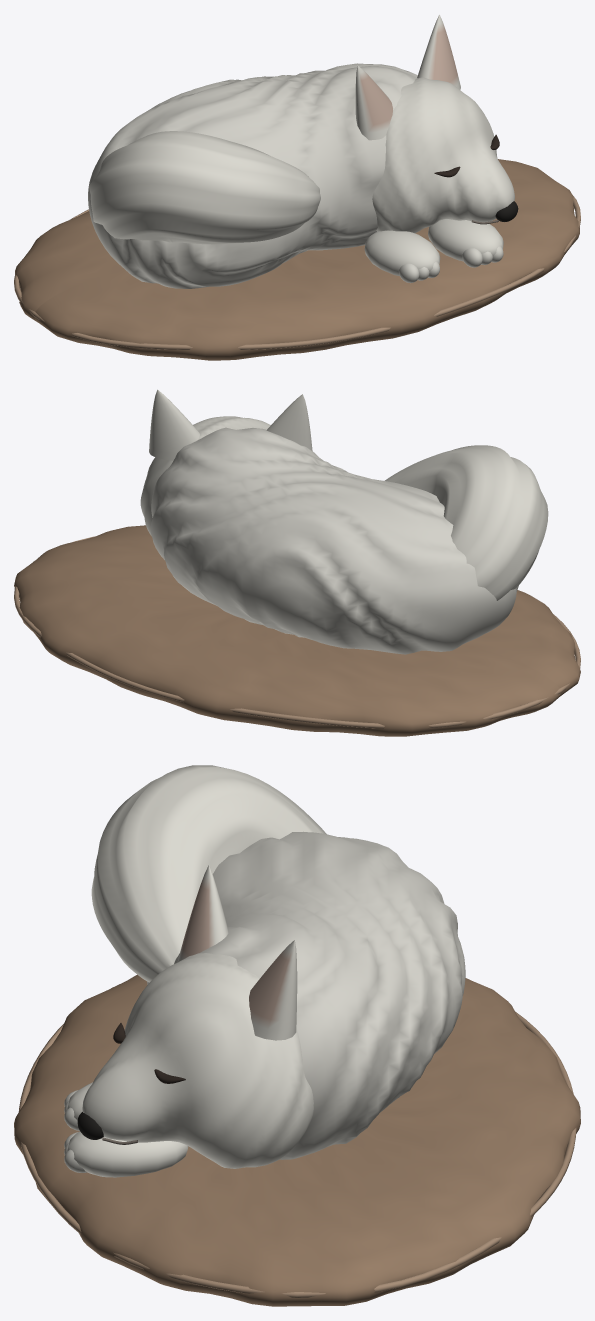
The model's file is leo.glb.
The picture shows the model from 3 angles, top to bottom: view 1: azimuth 30°, elevation 25°; view 2: azimuth 150°, elevation 25°; view 3: azimuth 270°, elevation 25°; orthographic projection. The views are drawn at different scales.
Parts seen in each view (by area): view 1: FlaxCushionSurface, RibcageSurface, PlumeSurface, SleepyHeadSurface, FarPawSurface, NearPawSurface, LeftEarSurface, RightEarSurface; view 2: FlaxCushionSurface, RibcageSurface, PlumeSurface, RightEarSurface, SleepyHeadSurface, LeftEarSurface; view 3: FlaxCushionSurface, RibcageSurface, SleepyHeadSurface, PlumeSurface, NearPawSurface, RightEarSurface, LeftEarSurface, FarPawSurface.
Boxes of the visible parts, left/top/right/bottom form: FlaxCushionSurface: left=14, top=159, right=580, bottom=360; RibcageSurface: left=88, top=63, right=417, bottom=288; PlumeSurface: left=89, top=131, right=320, bottom=244; SleepyHeadSurface: left=372, top=77, right=518, bottom=233; FarPawSurface: left=364, top=230, right=440, bottom=283; NearPawSurface: left=428, top=219, right=503, bottom=267; LeftEarSurface: left=355, top=65, right=392, bottom=140; RightEarSurface: left=417, top=14, right=460, bottom=89; FlaxCushionSurface: left=14, top=525, right=580, bottom=736; RibcageSurface: left=150, top=427, right=518, bottom=654; PlumeSurface: left=384, top=445, right=548, bottom=600; RightEarSurface: left=149, top=389, right=199, bottom=460; SleepyHeadSurface: left=140, top=416, right=270, bottom=535; LeftEarSurface: left=266, top=394, right=312, bottom=450; FlaxCushionSurface: left=14, top=974, right=580, bottom=1306; RibcageSurface: left=147, top=831, right=465, bottom=1159; SleepyHeadSurface: left=77, top=953, right=313, bottom=1168; PlumeSurface: left=91, top=765, right=326, bottom=982; NearPawSurface: left=64, top=1131, right=188, bottom=1177; RightEarSurface: left=249, top=940, right=297, bottom=1040; LeftEarSurface: left=177, top=865, right=228, bottom=962; FarPawSurface: left=64, top=1082, right=92, bottom=1130.
Bounding box in the file's own units: 1.29 × 0.569 × 0.8799.
